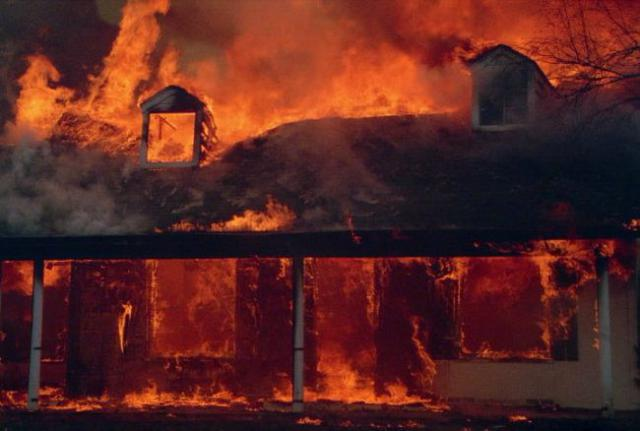fire: (454, 256, 554, 358), (311, 258, 375, 400), (146, 257, 234, 357), (308, 52, 432, 115), (90, 64, 142, 147), (200, 80, 250, 165), (14, 54, 64, 138), (109, 0, 157, 67), (148, 112, 195, 162), (222, 203, 292, 230), (63, 94, 93, 146), (253, 98, 305, 128), (530, 240, 596, 259), (158, 40, 184, 85), (154, 388, 234, 402), (556, 283, 576, 336), (414, 342, 436, 383), (538, 57, 570, 85), (122, 381, 154, 408), (8, 259, 32, 293), (378, 378, 407, 404), (566, 257, 596, 281), (115, 300, 129, 350), (408, 391, 444, 410), (41, 259, 67, 285), (37, 386, 64, 409), (272, 372, 292, 402), (374, 254, 432, 264), (434, 256, 454, 284), (1, 388, 27, 406), (66, 396, 102, 409), (608, 258, 630, 278), (598, 237, 616, 256), (166, 219, 198, 229), (410, 314, 420, 343), (304, 385, 316, 398)
